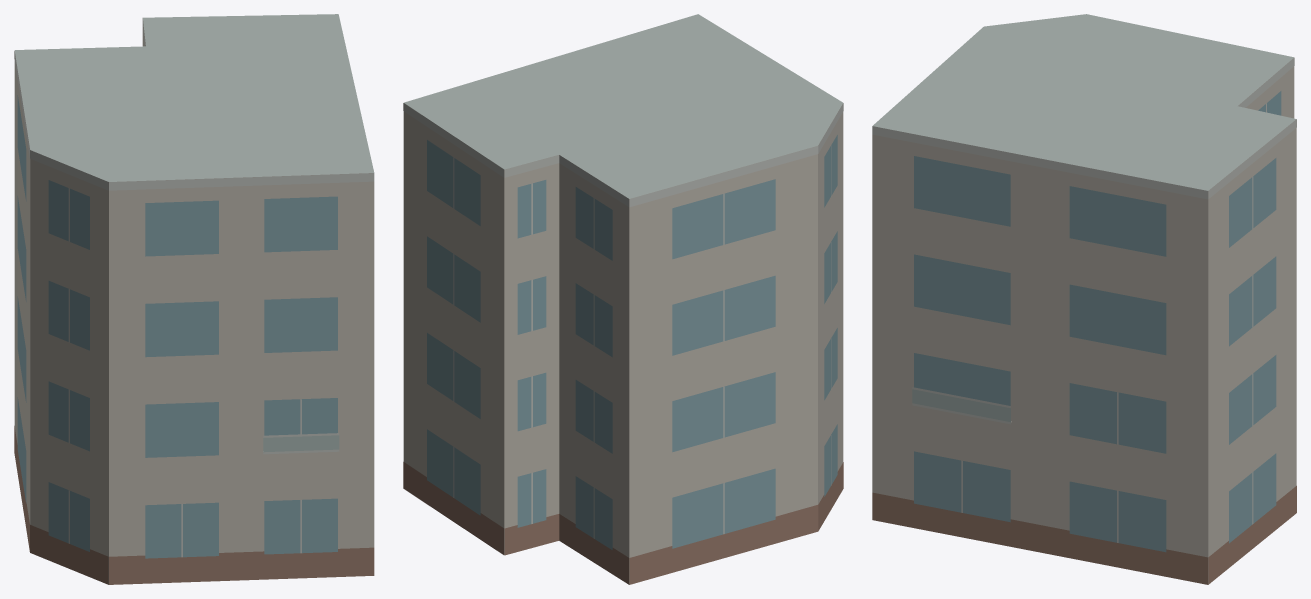
Rendered from survey-upis-32505280.glb.
The picture shows the model from 3 angles, left to right: view 1: azimuth 30°, elevation 25°; view 2: azimuth 150°, elevation 25°; view 3: azimuth 270°, elevation 25°; orthographic projection. The views are drawn at different scales.
Visible parts, largest first — view 1: survey-upis-32505280.tmp; view 2: survey-upis-32505280.tmp; view 3: survey-upis-32505280.tmp.
Part boxes in pixels (left/top/right/bottom): survey-upis-32505280.tmp: left=14, top=14, right=374, bottom=584; survey-upis-32505280.tmp: left=403, top=14, right=843, bottom=584; survey-upis-32505280.tmp: left=872, top=14, right=1296, bottom=584.
Size of the model in its own units: 10.88 by 11.29 by 11.03.
